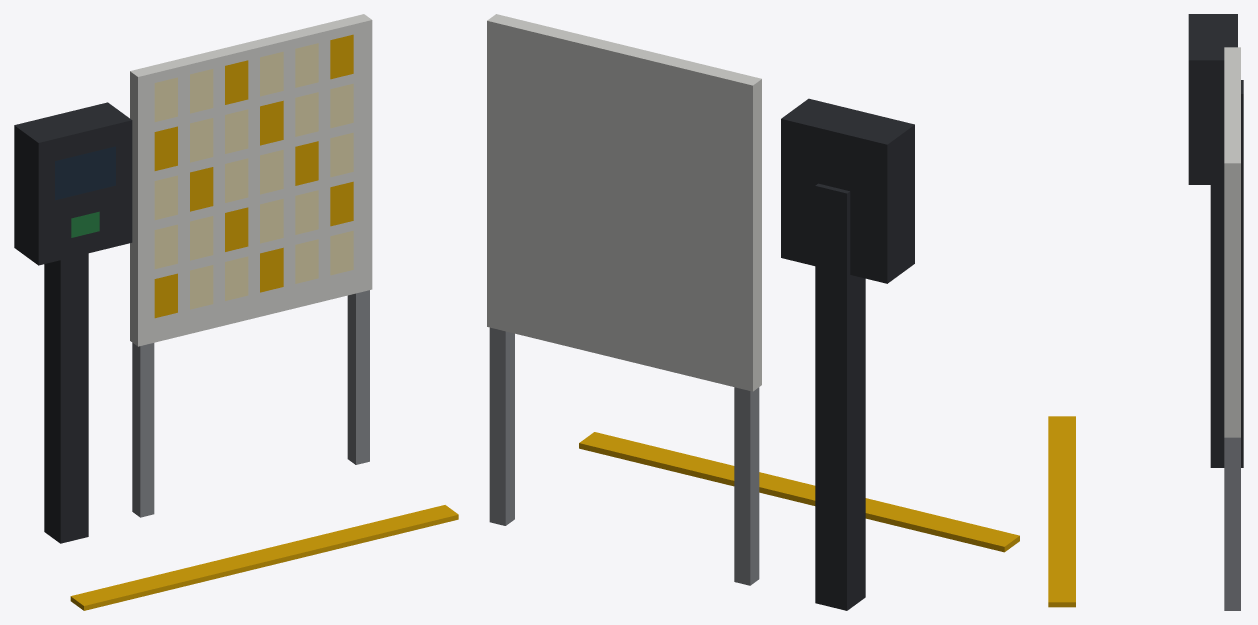
The model's file is prop_clock-in.glb.
3 renders of one model, left to right at view 1: azimuth 30°, elevation 25°; view 2: azimuth 150°, elevation 25°; view 3: azimuth 270°, elevation 25°, orthographic. The views are drawn at different scales.
Parts seen in each view (by area): view 1: body; view 2: body; view 3: body.
Part boxes in pixels (left/top/right/bottom): body: left=14, top=14, right=458, bottom=610; body: left=487, top=14, right=1019, bottom=610; body: left=1048, top=14, right=1243, bottom=610.
Bounding box in the file's own units: 1.6 × 1.8 × 0.71.
